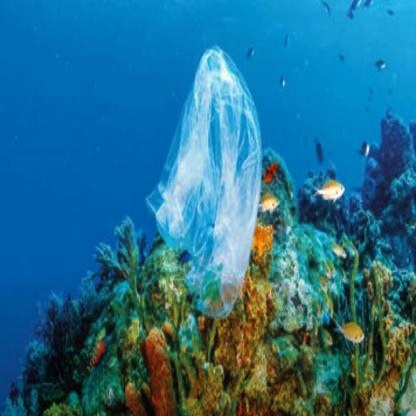plastic: (158, 49, 270, 324)
